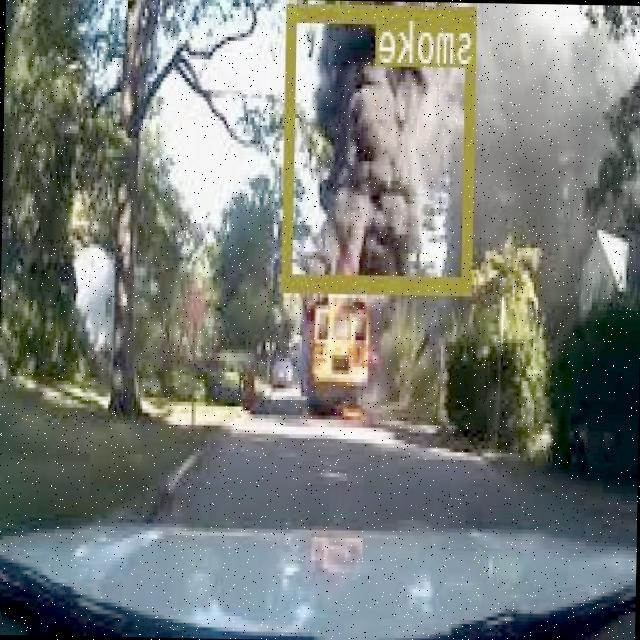smoke: (284, 2, 478, 290)
